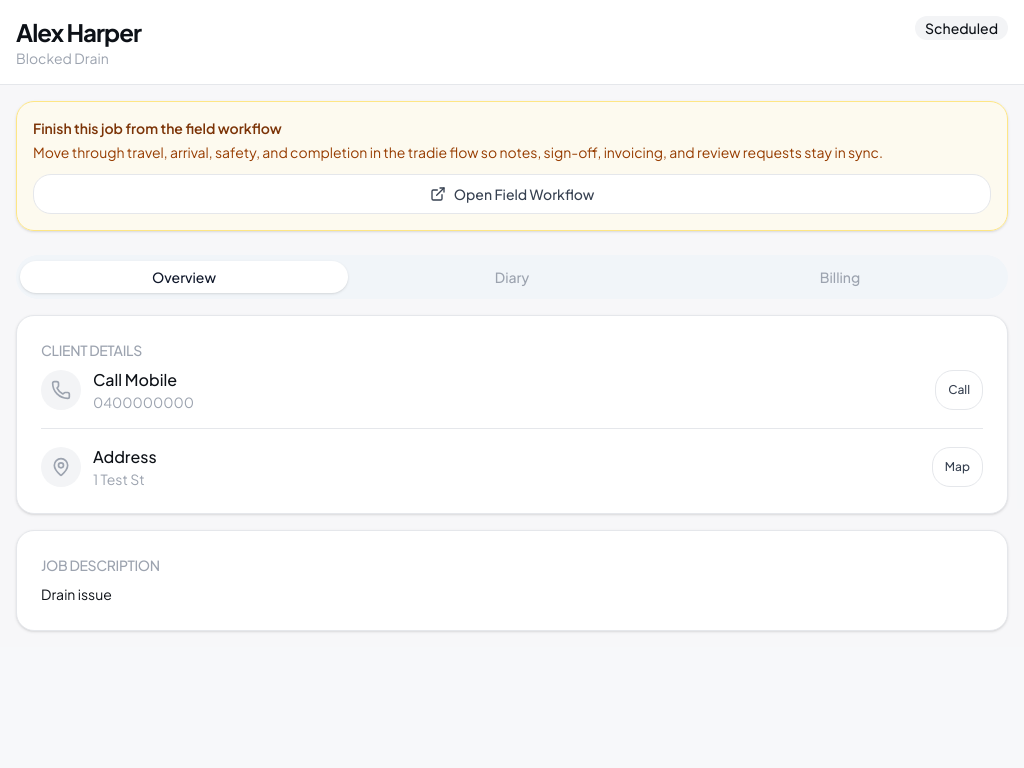
Test: JobDetailView › sends users to the full CRM billing panel instead of showing a dead generate-invoice button
Step 1. Click the tab "Billing" → click(840, 277), box [676,261,1004,293]
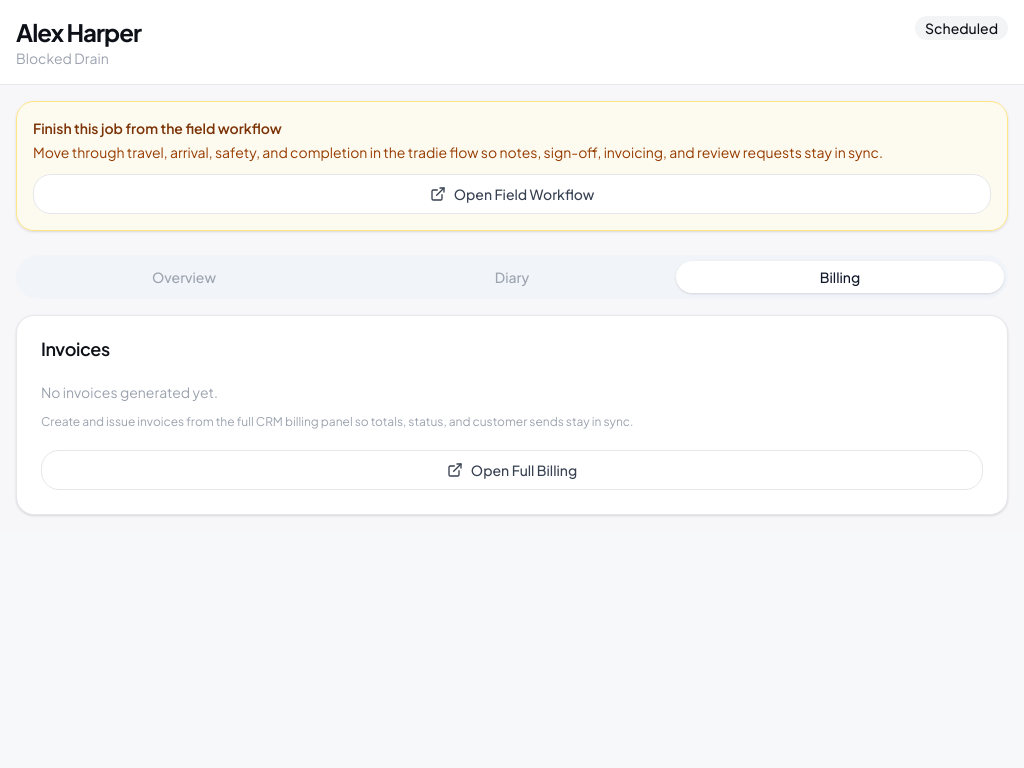
Expected: the text "No invoices generated yet." is shown, [41,383,218,401]
Expected: the text "Create and issue invoices from the full CRM billing panel so totals, status, and customer sends stay in sync" is shown, [41,414,633,429]
